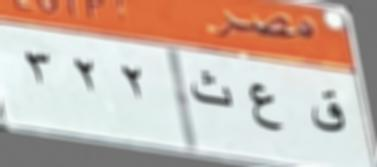2: (118, 57, 150, 106), (70, 55, 101, 92)
3: (24, 48, 57, 96)
ain: (244, 78, 288, 142)
qaaf: (308, 86, 348, 138)
thaa: (190, 64, 236, 112)
